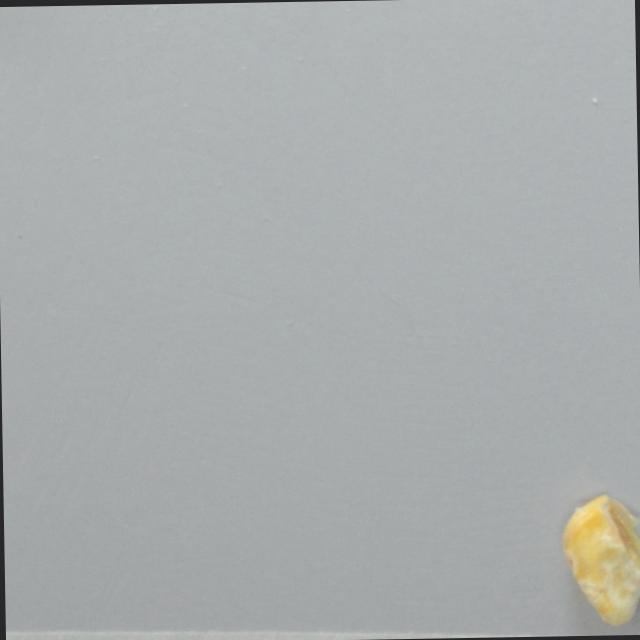dañado: (553, 492, 640, 629)
